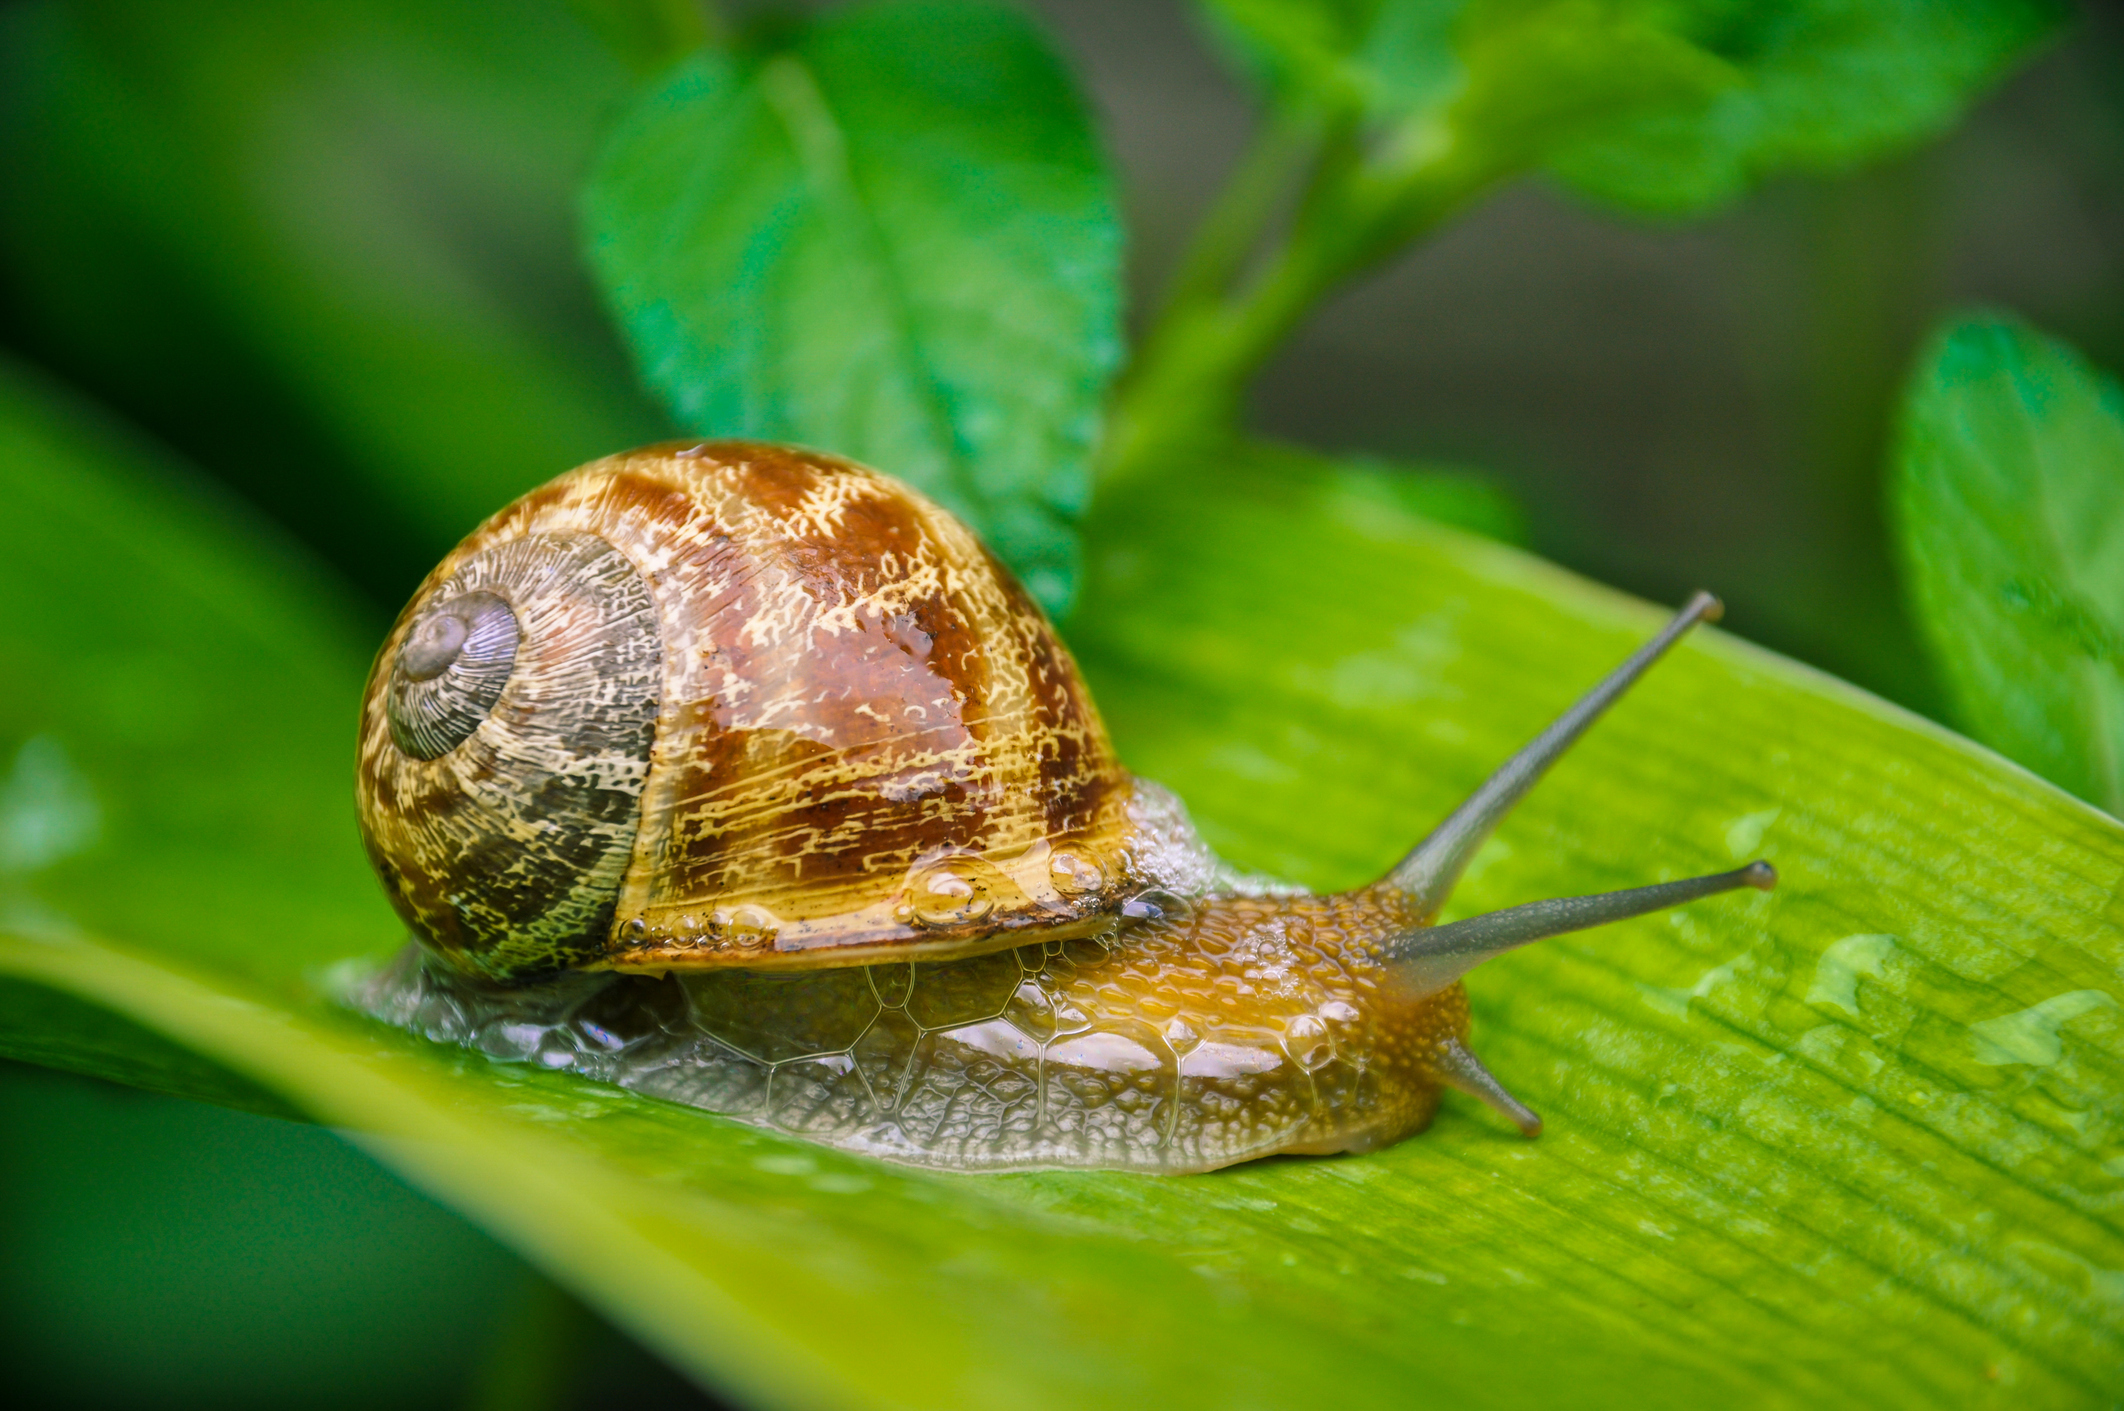snail: (368, 417, 1785, 1173)
